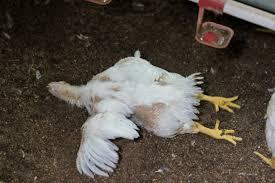AbNormal: (37, 50, 249, 160)
